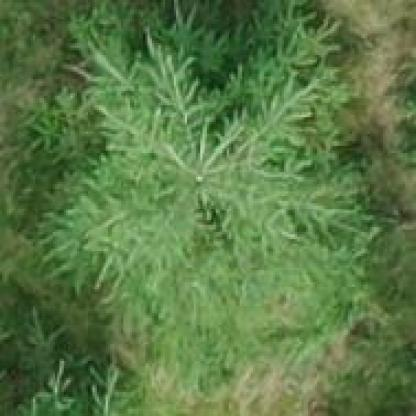Coniferous Tree: (13, 0, 407, 378)
